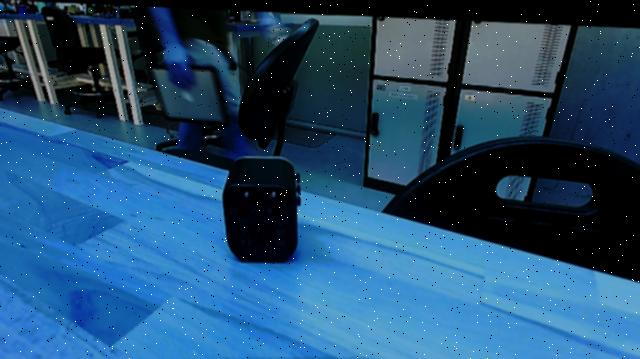adapter: (219, 151, 305, 266)
